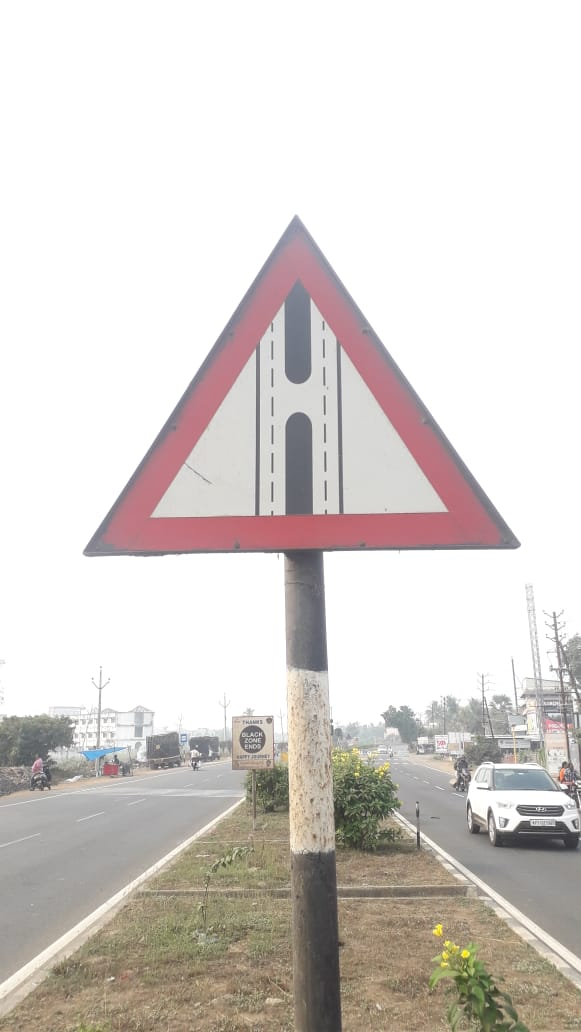highway go straight: (57, 177, 569, 614)
